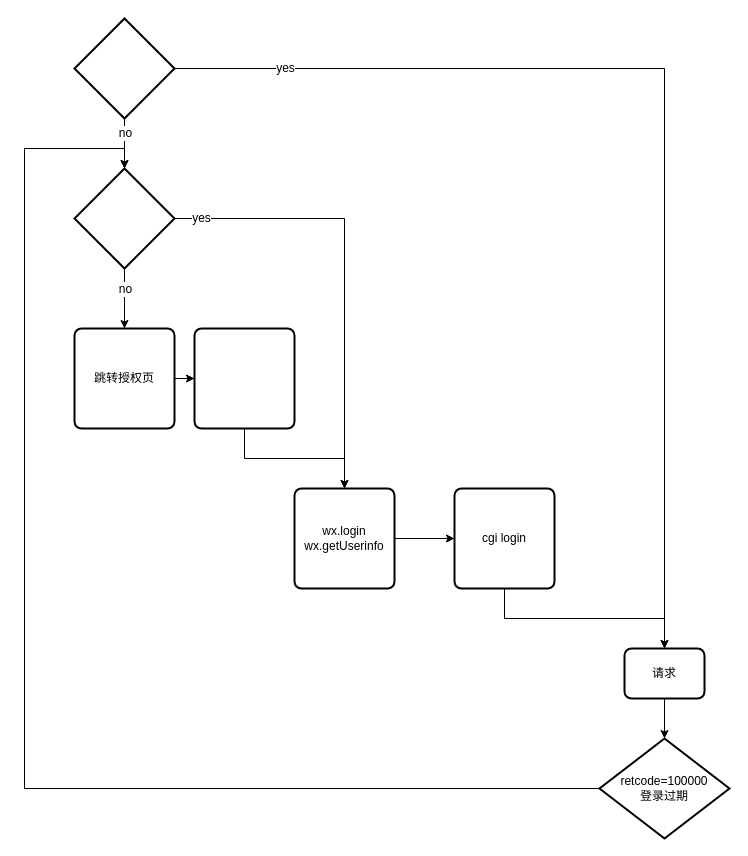
This 748x856 diagram has some shape labels left out. The box of each missing label's shape, as (x1, y1, x2, y2) in pixels:
functional-page: (193, 327, 295, 429)
storageData.a2: (73, 17, 175, 119)
wx.getSetting 用户已授权: (73, 167, 175, 269)
